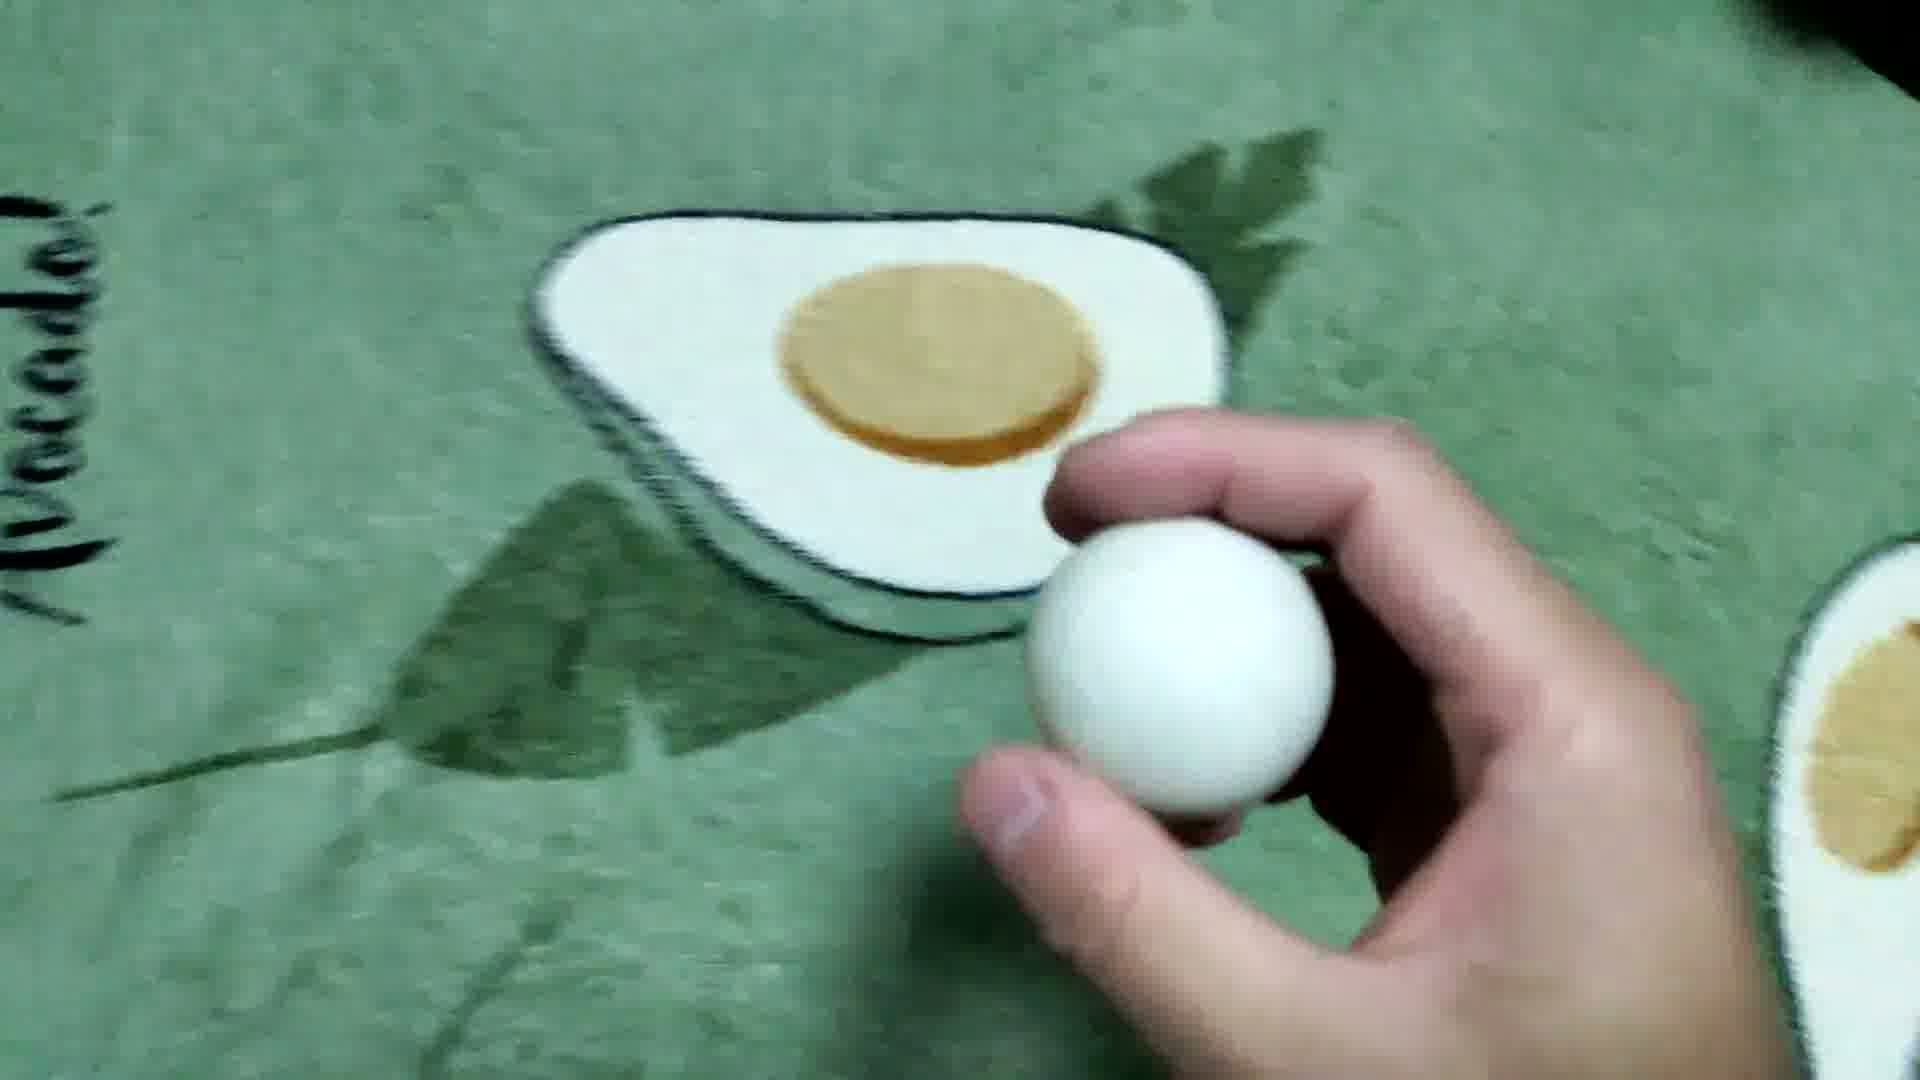Ball: (1027, 516, 1338, 824)
